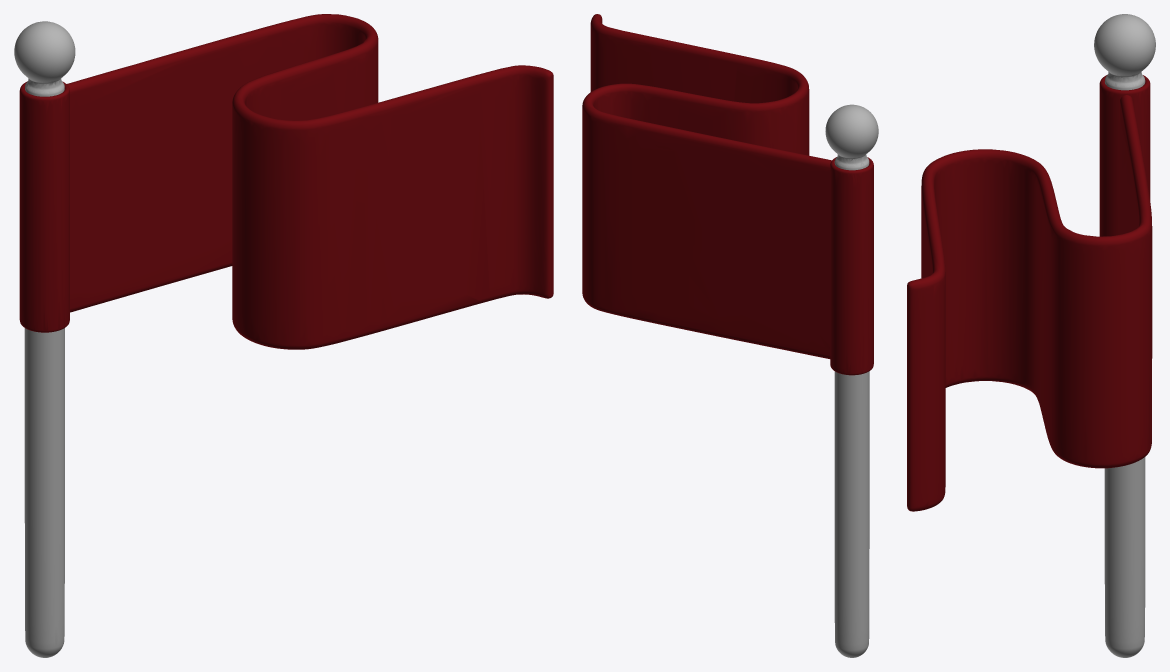
File: flag.glb
The picture shows the model from 3 angles, left to right: view 1: azimuth 30°, elevation 25°; view 2: azimuth 150°, elevation 25°; view 3: azimuth 270°, elevation 25°; orthographic projection. The views are drawn at different scales.
Visible parts, largest first — view 1: Cylinder.005; view 2: Cylinder.005; view 3: Cylinder.005.
Part boxes in pixels (bbox=[...]): Cylinder.005: bbox=[14, 14, 553, 657]; Cylinder.005: bbox=[582, 14, 878, 657]; Cylinder.005: bbox=[907, 14, 1155, 657].
Size of the model in its own units: 1.36 by 1.91 by 0.6731.
